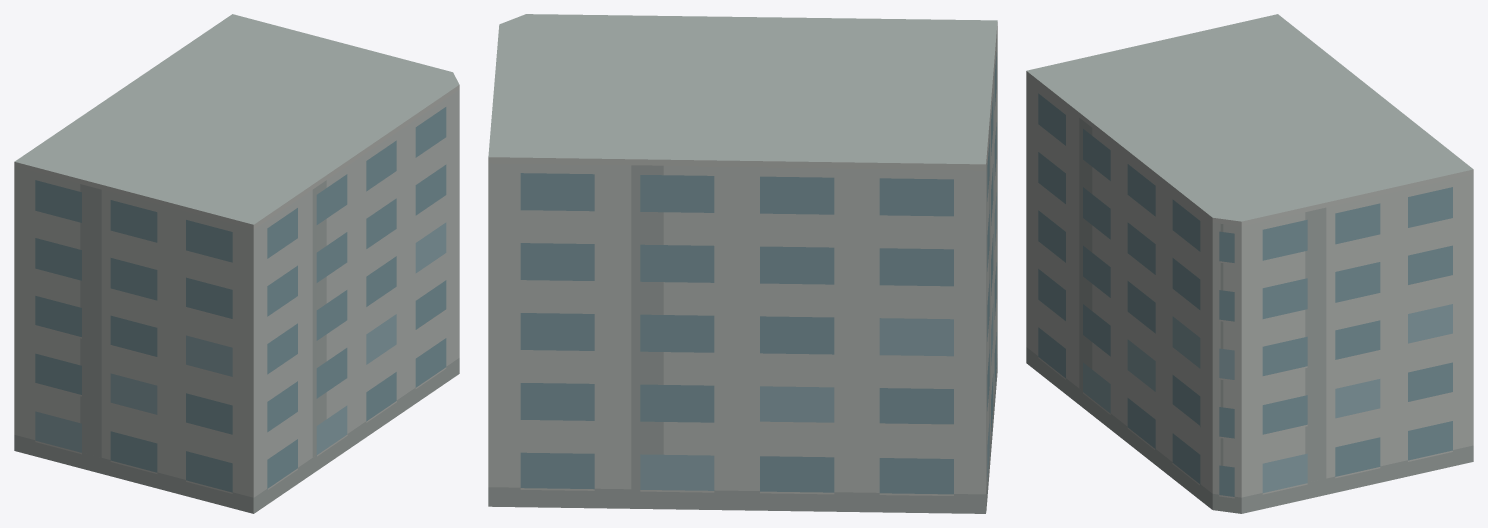
The model's file is survey-upis-32891449.glb.
3 views of the same model, side by side, from view 1: azimuth 30°, elevation 25°; view 2: azimuth 150°, elevation 25°; view 3: azimuth 270°, elevation 25° (orthographic). The views are drawn at different scales.
Parts seen in each view (by area): view 1: survey-upis-32891449.tmp; view 2: survey-upis-32891449.tmp; view 3: survey-upis-32891449.tmp.
Boxes of the visible parts, x1,y1,x2,y2 form: survey-upis-32891449.tmp: (14, 14, 459, 513); survey-upis-32891449.tmp: (488, 14, 997, 513); survey-upis-32891449.tmp: (1026, 14, 1473, 513).
Size of the model in its own units: 21.78 by 14.3 by 19.85.
